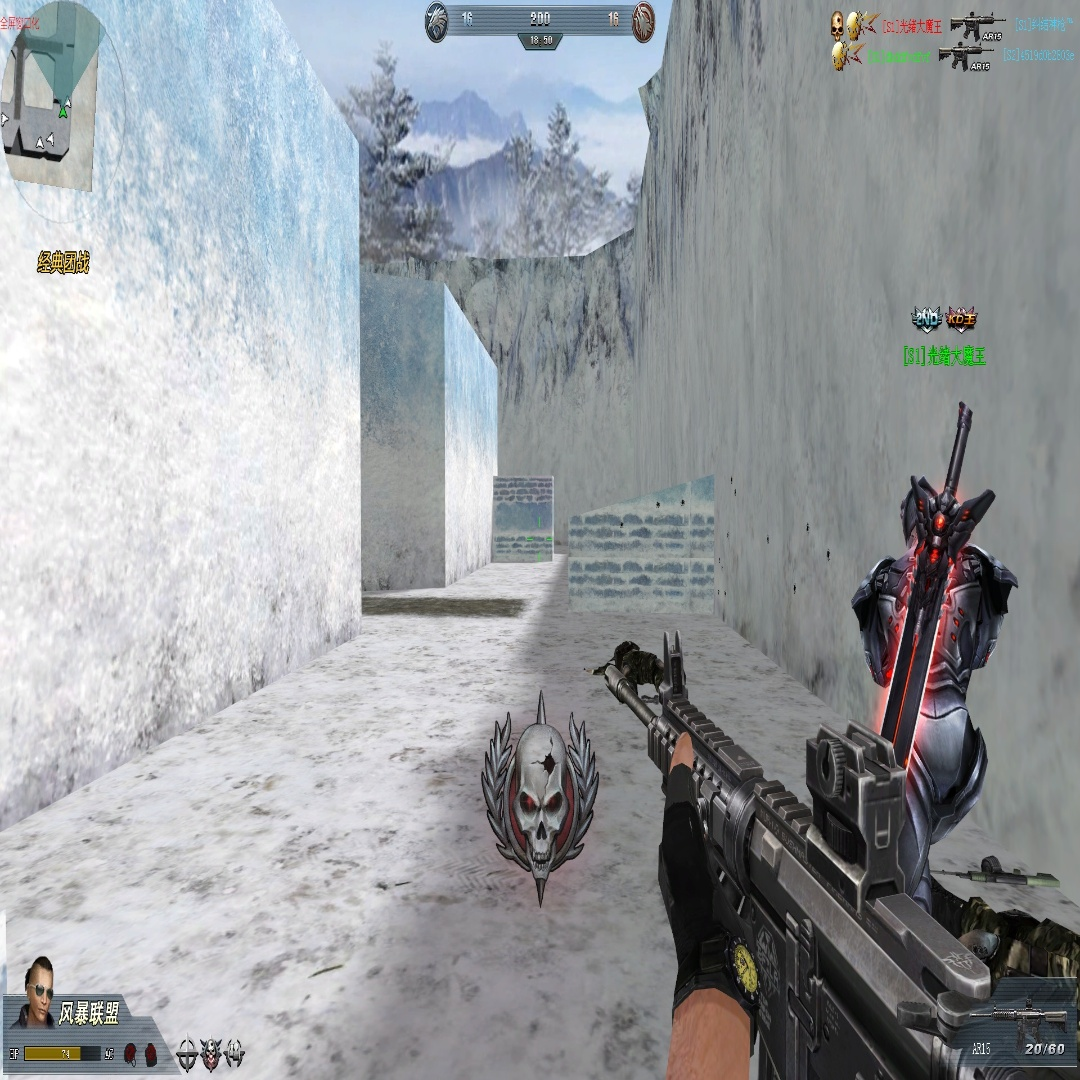head: (903, 475, 940, 560)
t: (884, 473, 1017, 914)
